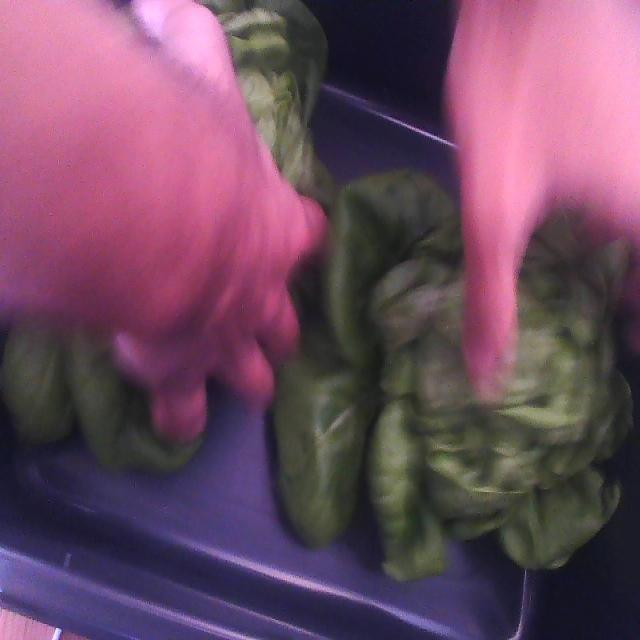lettuce: (281, 193, 631, 580)
